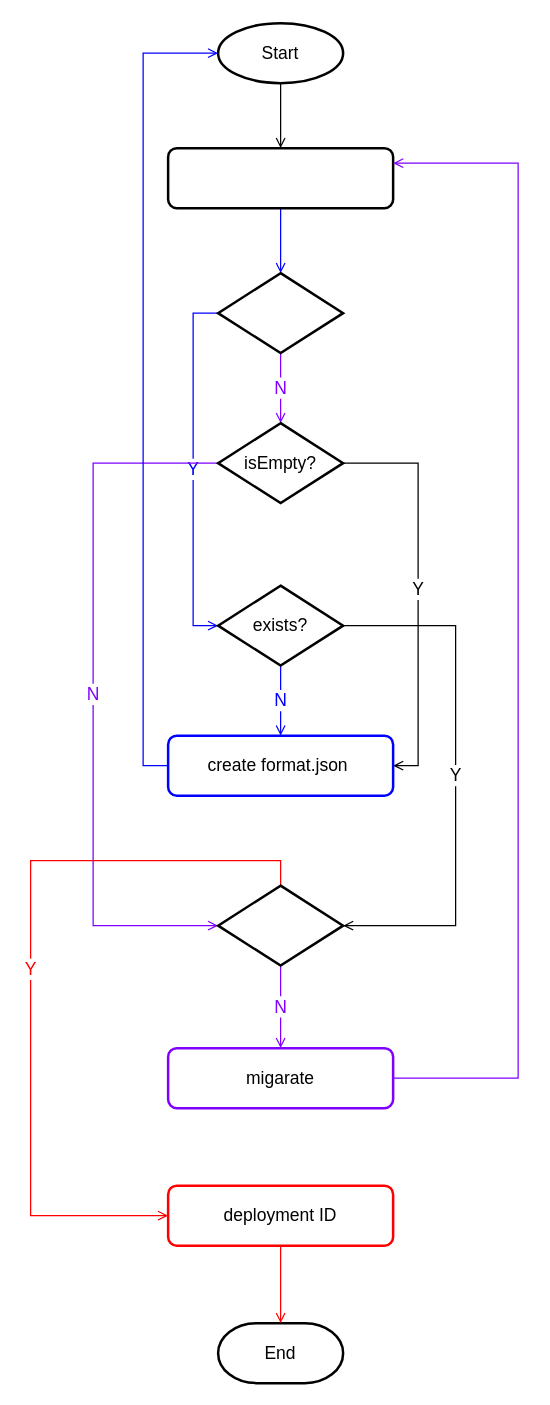
The diagram is 550 pixels wide and 1405 high, and some of its shapes have lost their labels. The centre of each missing label's shape, as x and y in pixels:
error?: (x=280, y=312)
open format.json for read: (x=280, y=177)
version ok?: (x=280, y=925)
